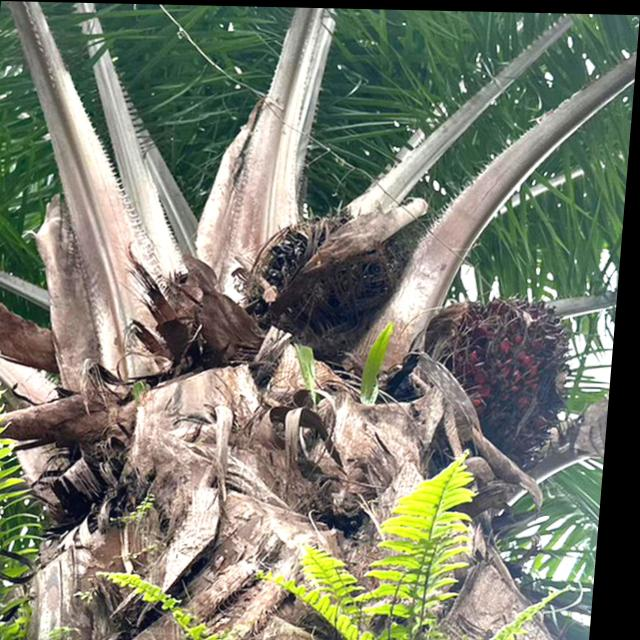unripe: (244, 198, 413, 349)
